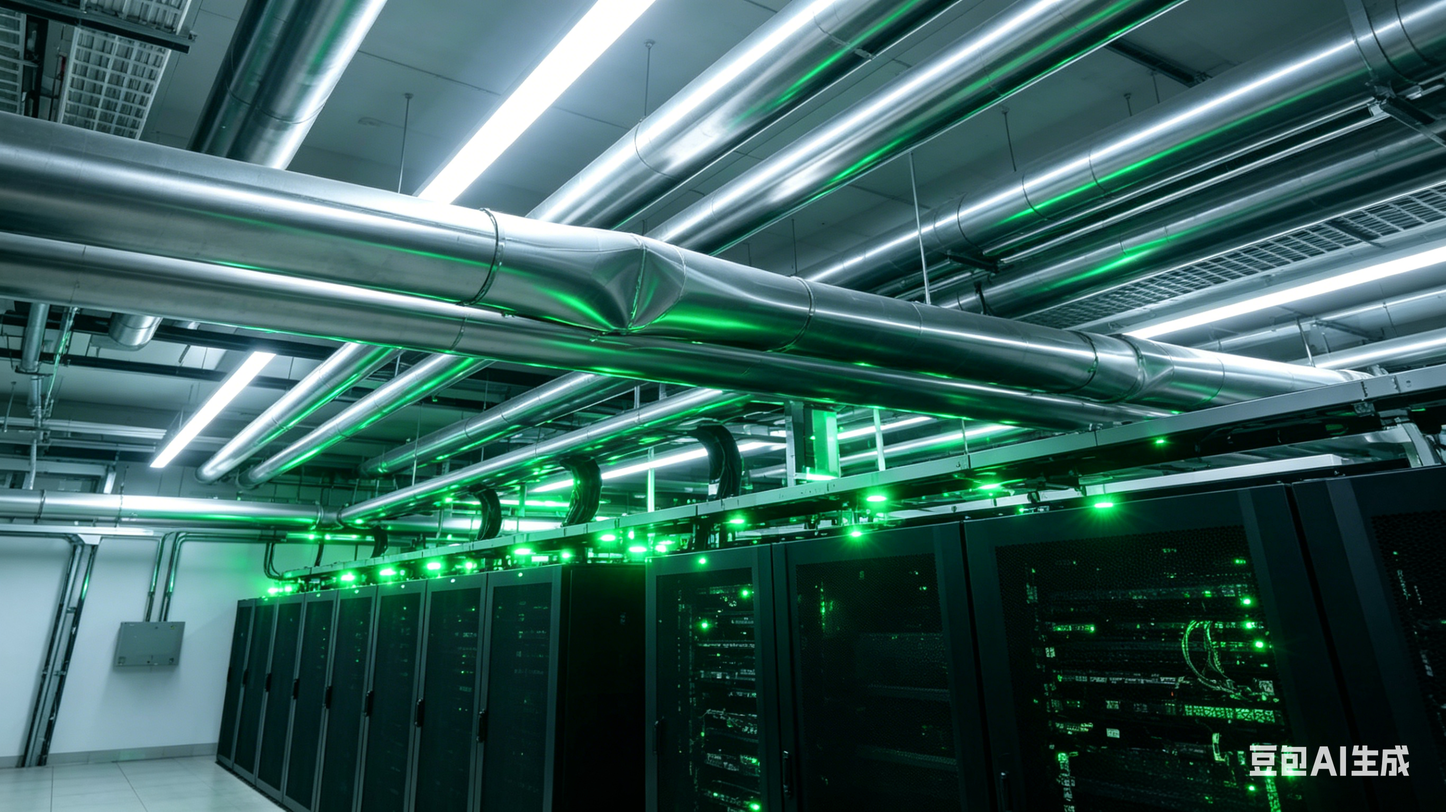Leakage: (589, 232, 701, 349)
